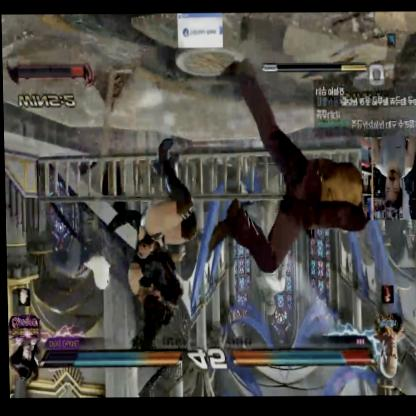streamer: (366, 137, 416, 209)
